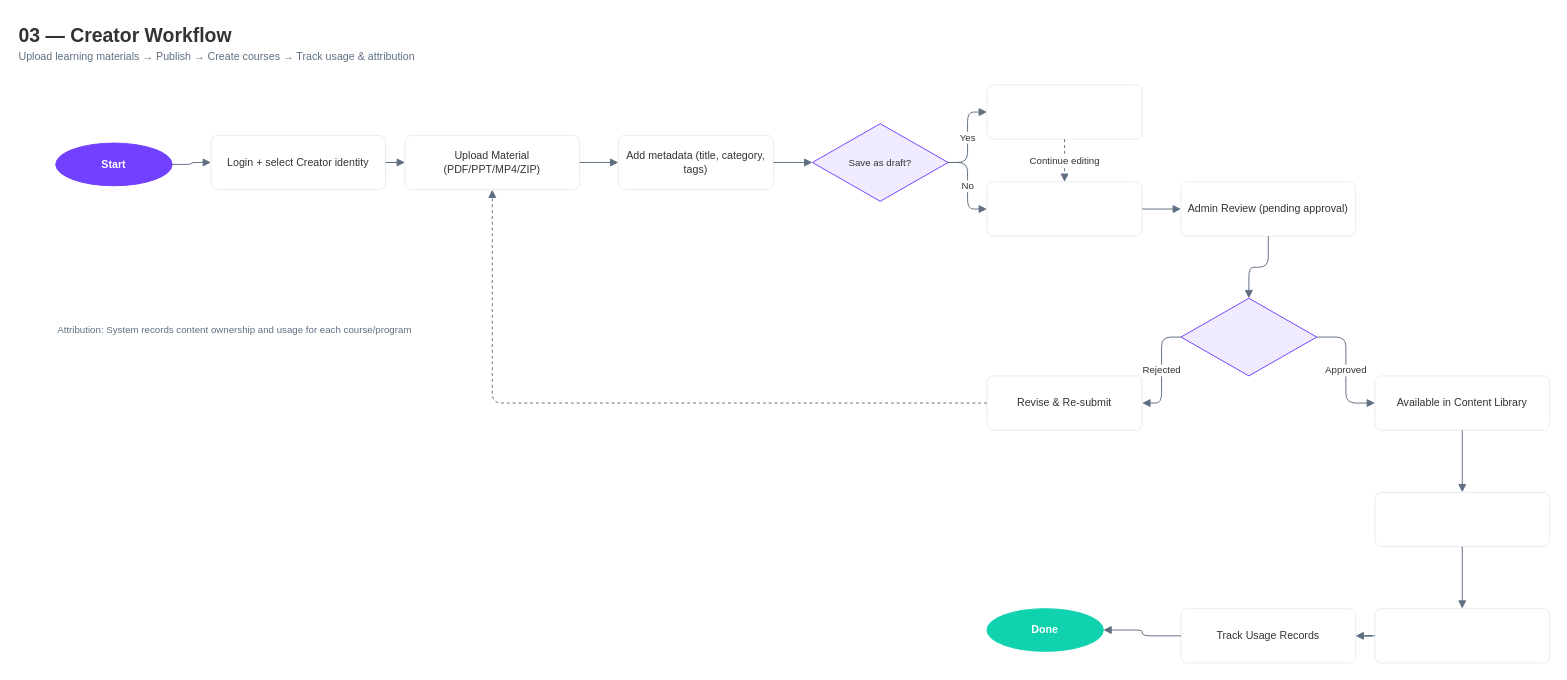
The diagram is 1567 pixels wide and 680 high, and some of its shapes have lost their labels. The shapes that lost their labels are listed below. From the top down, each one's box as (x1, y1, x2, y2) in pixels, then its label:
(986, 84, 1142, 139): Save Draft
(986, 181, 1142, 236): Publish Material
(1180, 297, 1317, 376): Approved?
(1374, 491, 1550, 547): Create Course (select materials)
(1374, 608, 1550, 663): Publish Course (set credits, date)
